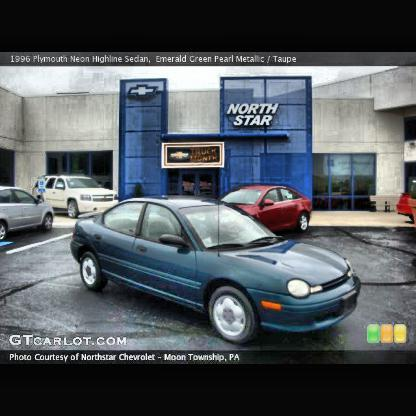Plymouth Neon Coupe 1999: (72, 198, 361, 343)
